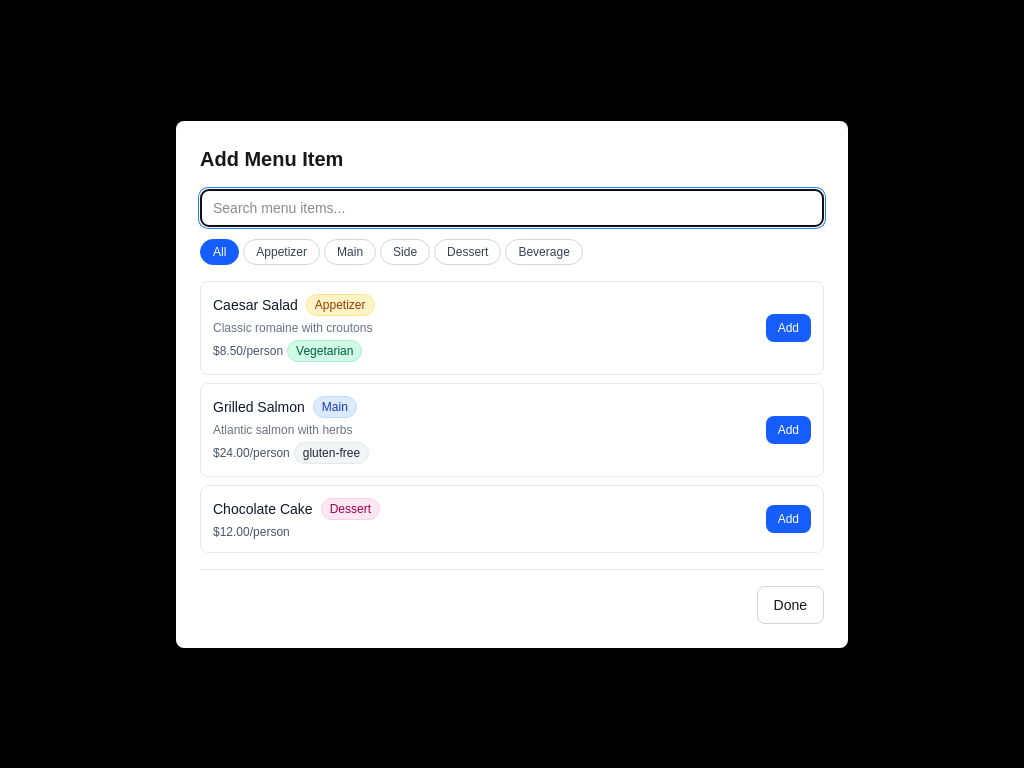
AddMenuItemDialog › filters items by search text case-insensitively
Type "CAESAR" into the field with placeholder "Search menu items..." at x=512, y=208, box x1=200 y1=188 x2=824 y2=226
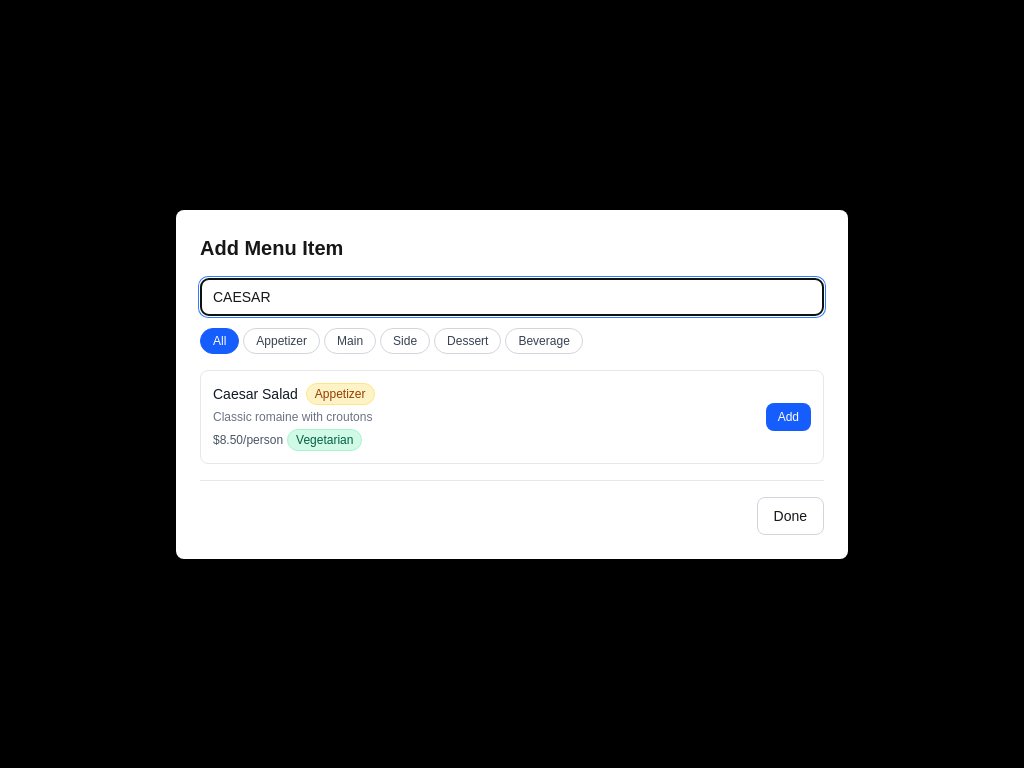
Expected: the text "Caesar Salad" is shown, x1=213 y1=384 x2=298 y2=404
Result: the text "Grilled Salmon" is gone
